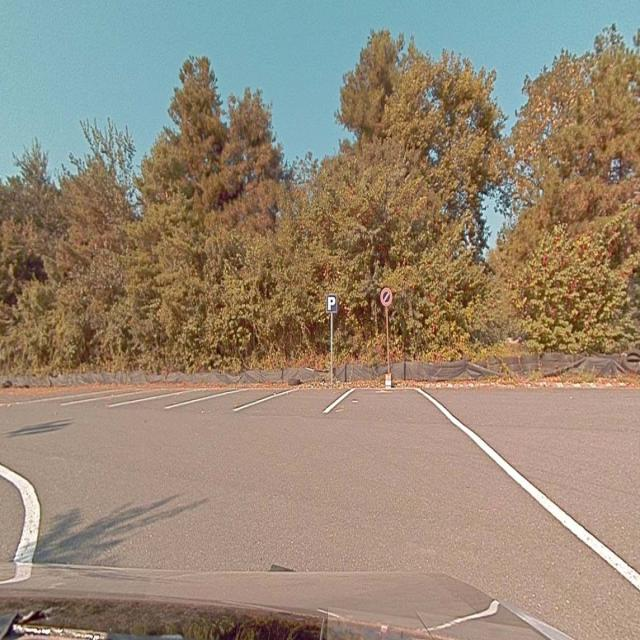park: (327, 296, 336, 312)
parkyasak: (381, 289, 391, 304)
